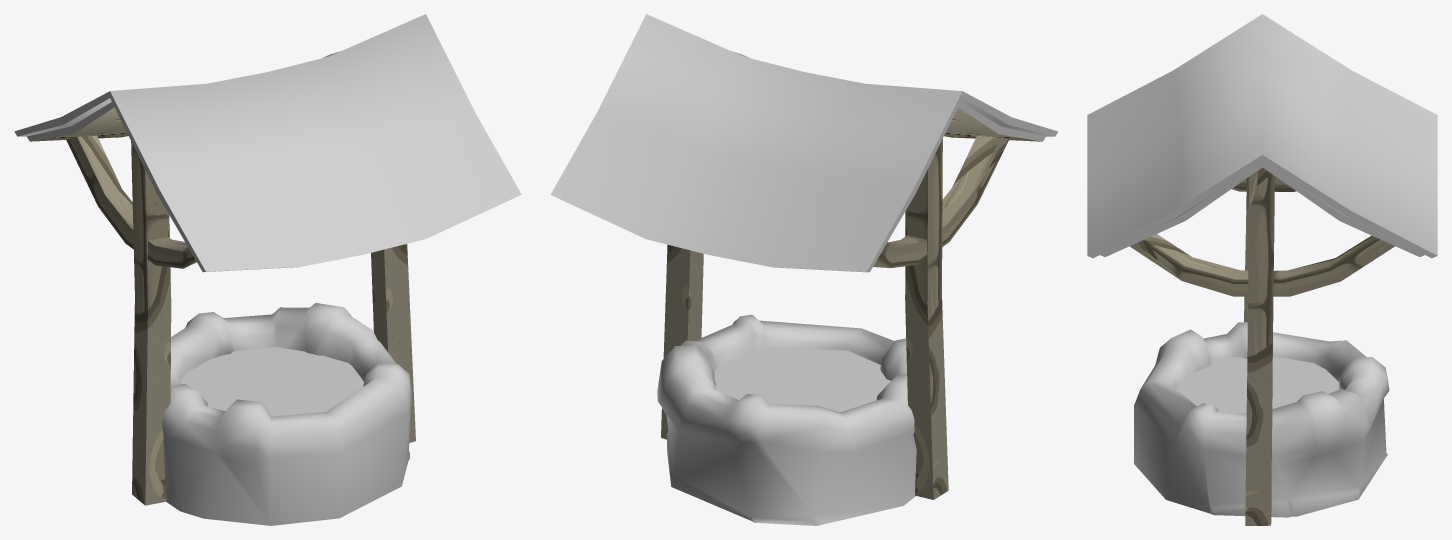
The model's file is Well.FBX.
3 views of the same model, side by side, from view 1: azimuth 30°, elevation 25°; view 2: azimuth 150°, elevation 25°; view 3: azimuth 270°, elevation 25° (orthographic). The views are drawn at different scales.
Parts seen in each view (by area): view 1: Well; view 2: Well; view 3: Well.
Boxes of the visible parts, x1=… form: Well: x1=14, y1=14, x2=521, y2=525; Well: x1=550, y1=14, x2=1057, y2=525; Well: x1=1087, y1=14, x2=1437, y2=525.
Size of the model in its own units: 2.53 by 3.19 by 2.66.
